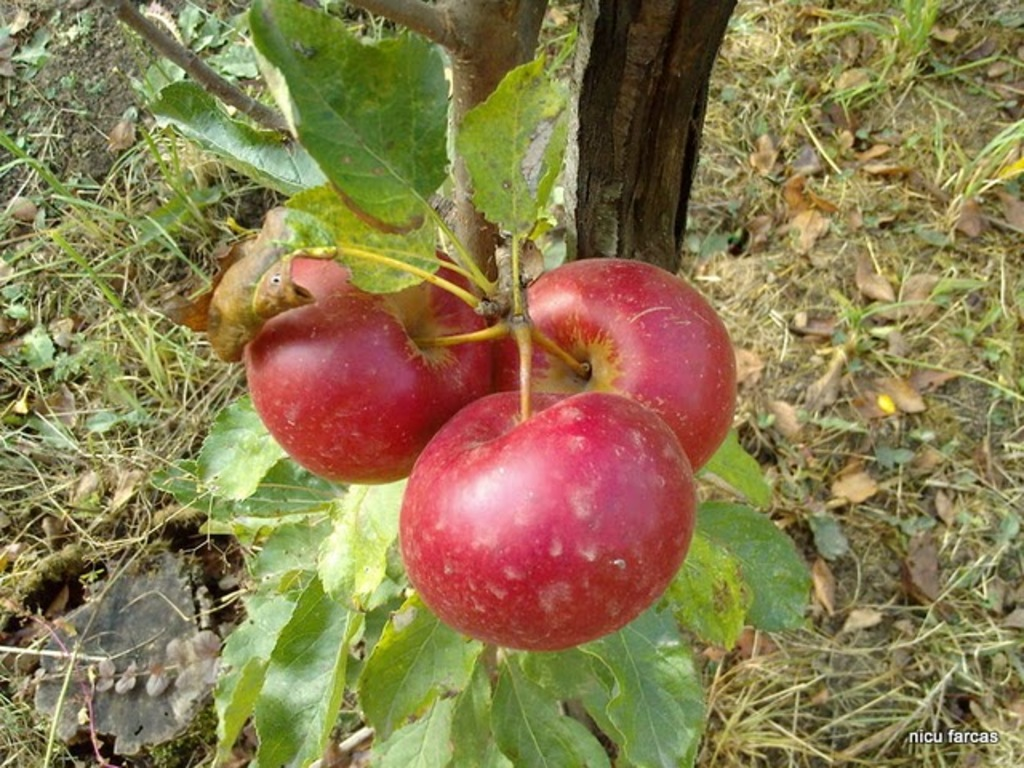Apple: (387, 380, 691, 663), (243, 240, 499, 484), (491, 257, 739, 475)
